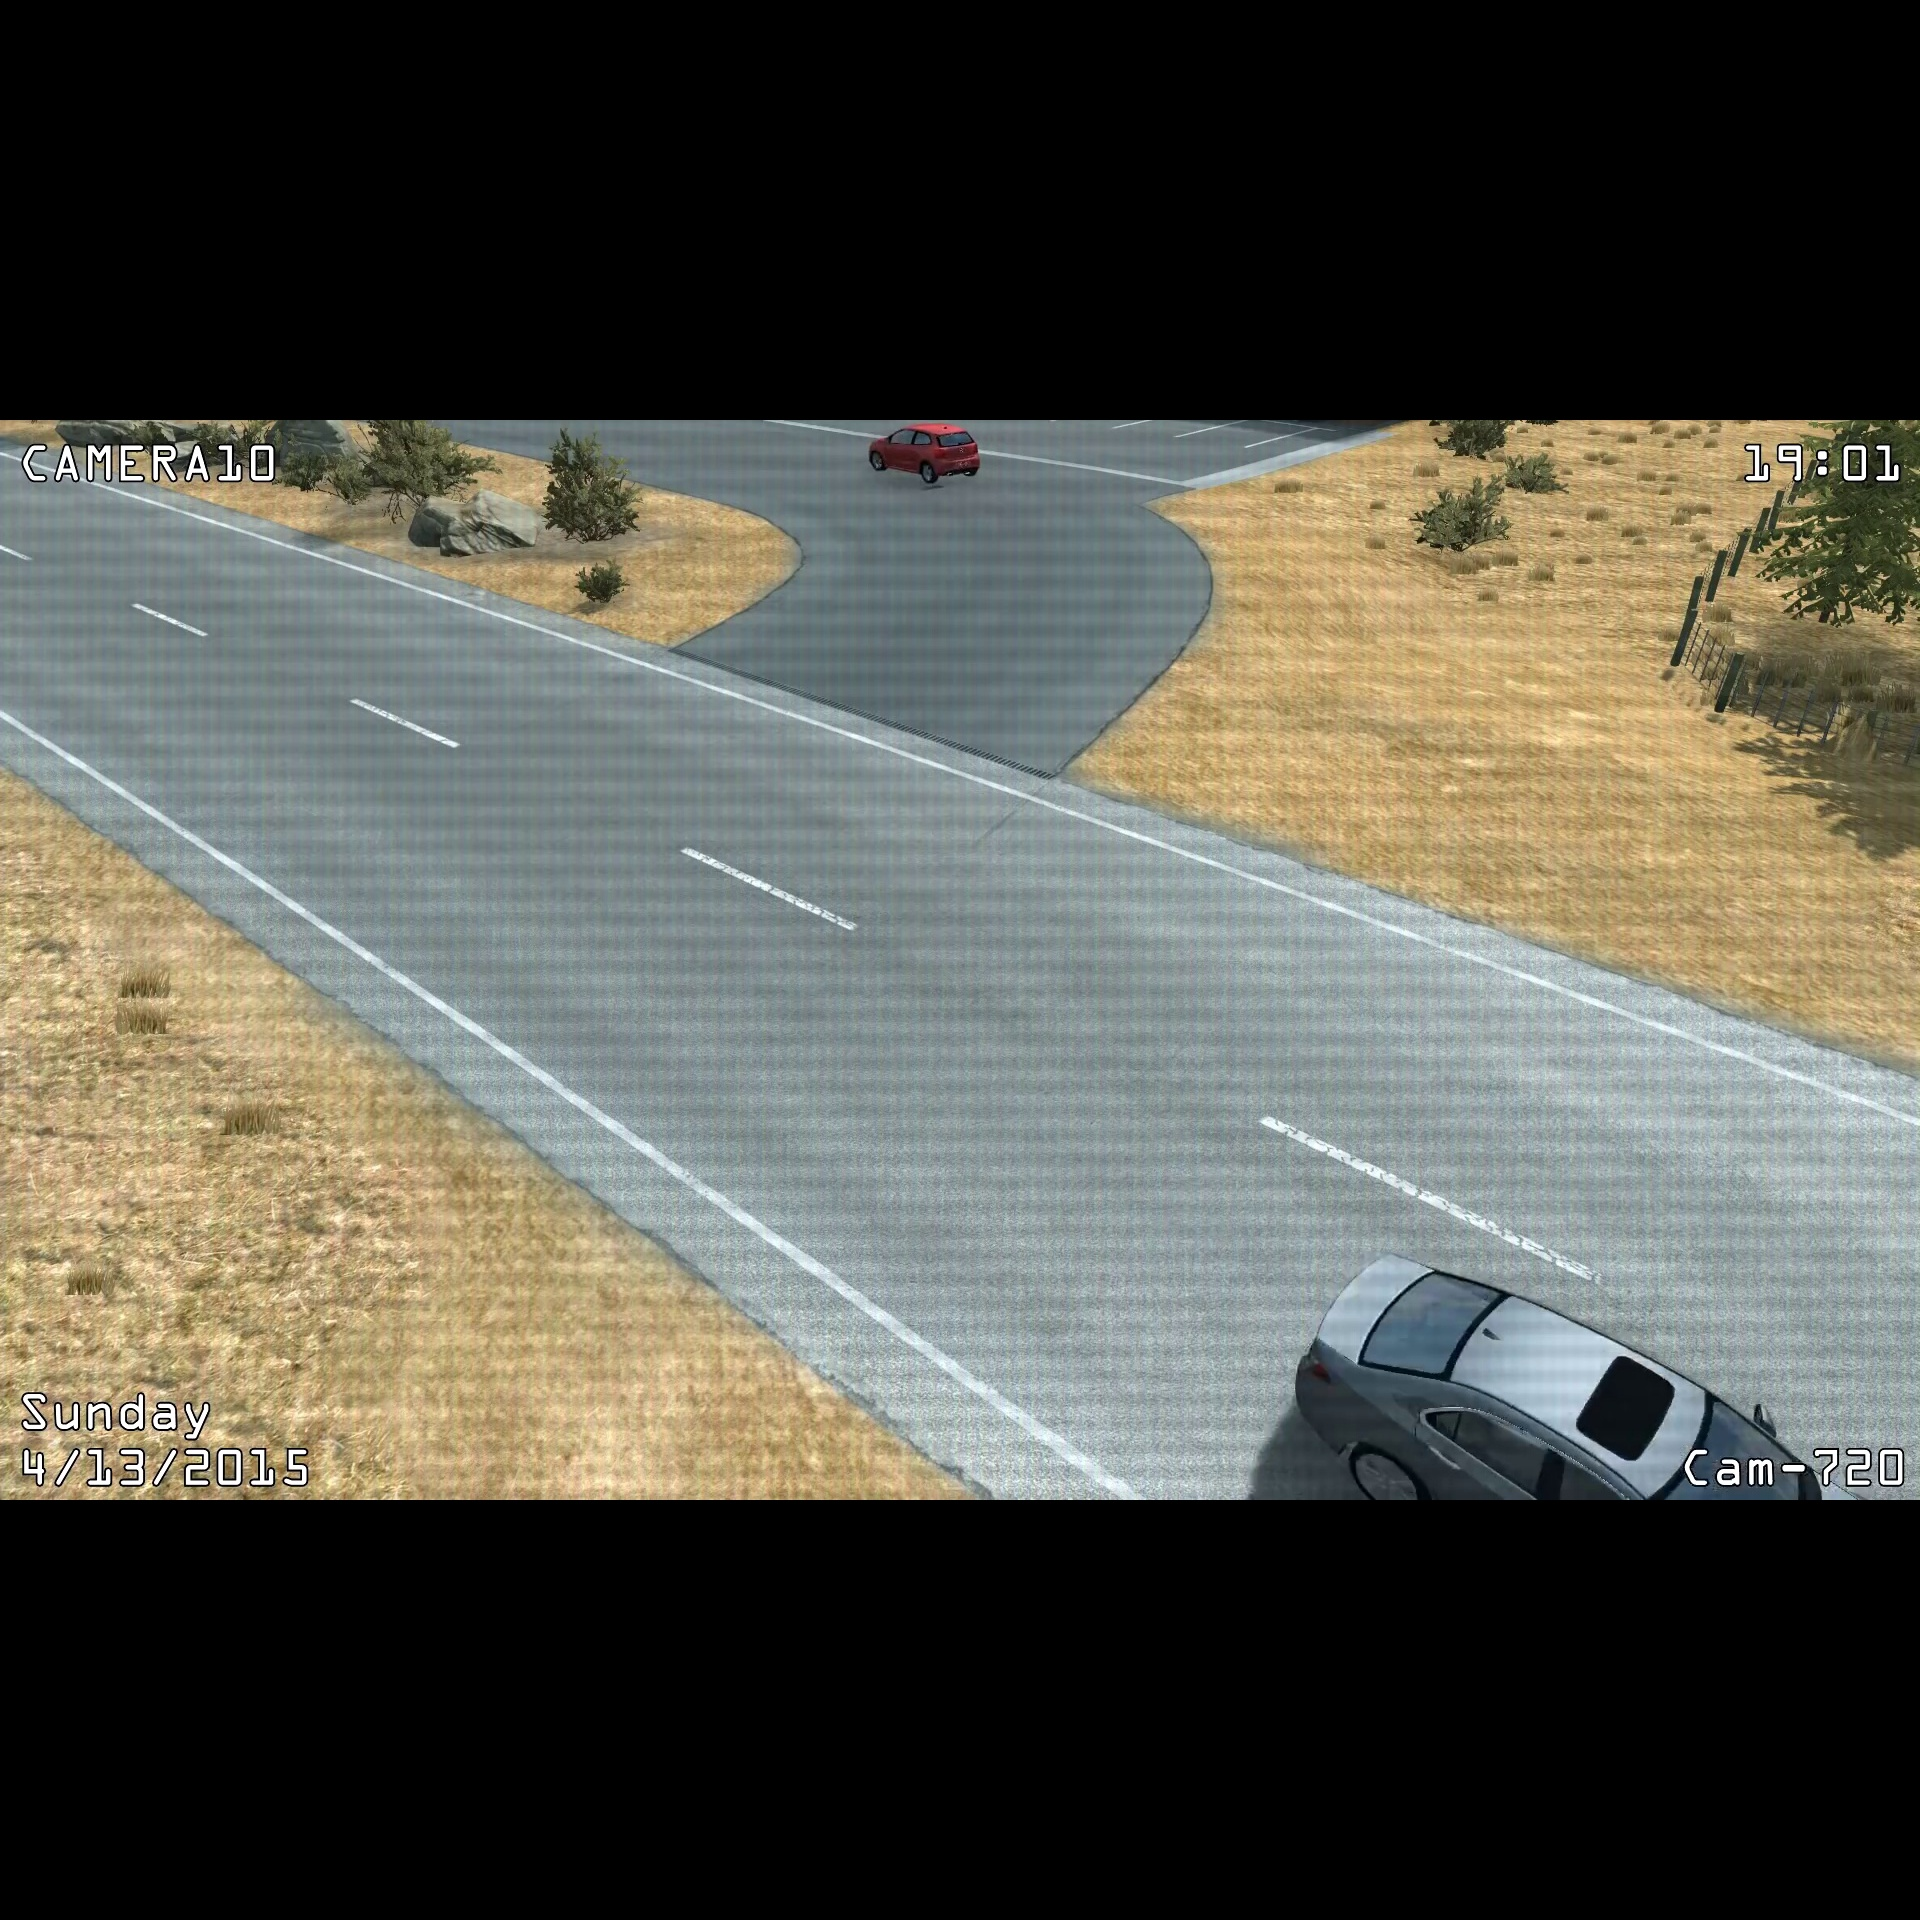vehicle: (1280, 1241, 1911, 1498), (865, 422, 985, 489)
